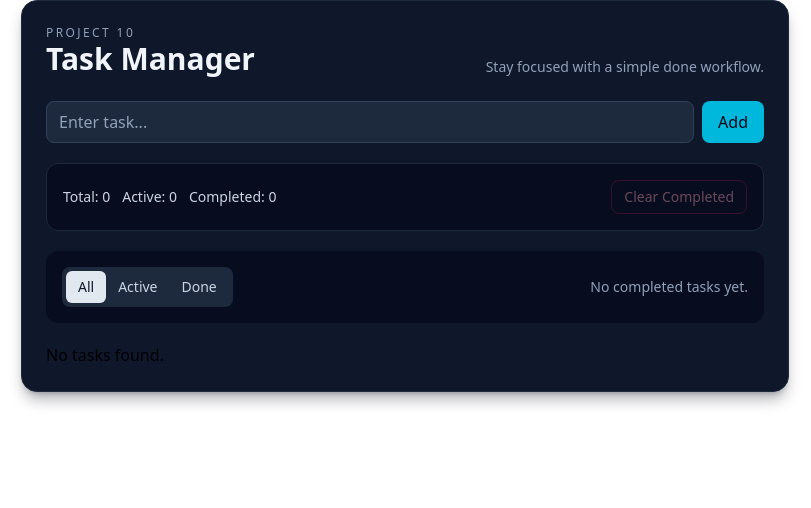
Test case: Project 10 spec requirements › R6: clear completed removes only done tasks
In the field with placeholder "Enter task...": point(370, 122) 46,101 -> 694,143, type "Complete me"
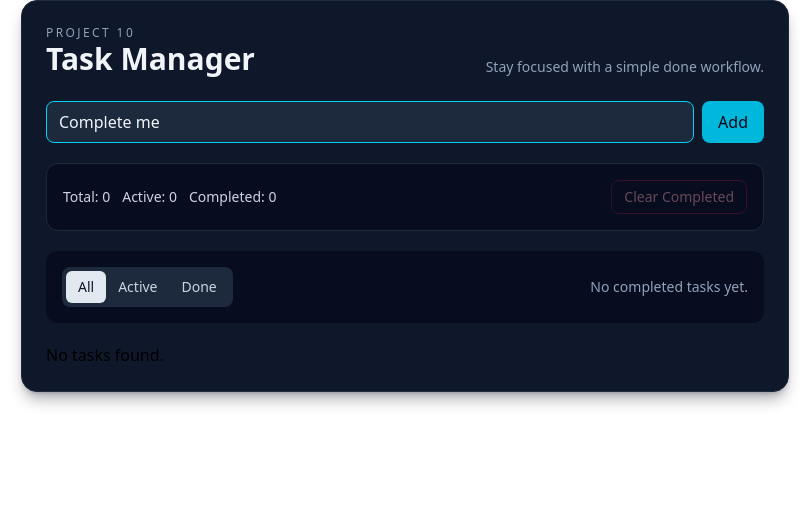
Click the button "Add": point(733, 122) 702,101 -> 764,143
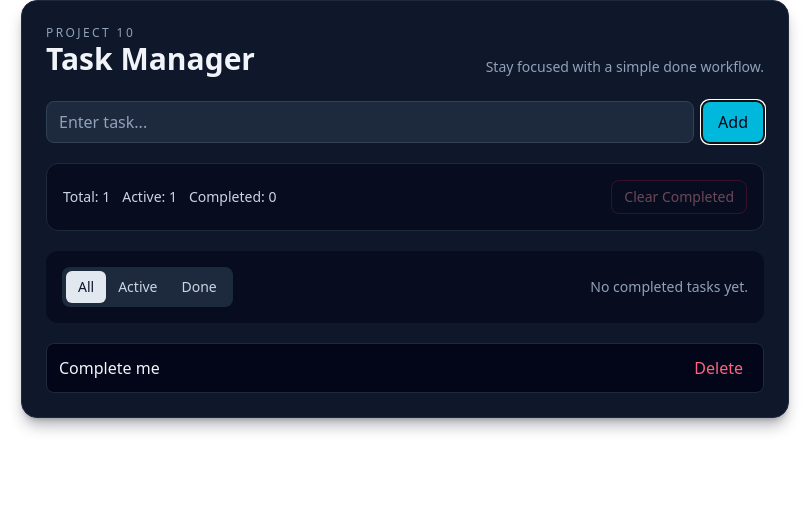
In the field with placeholder "Enter task...": point(370, 122) 46,101 -> 694,143, type "Keep me"
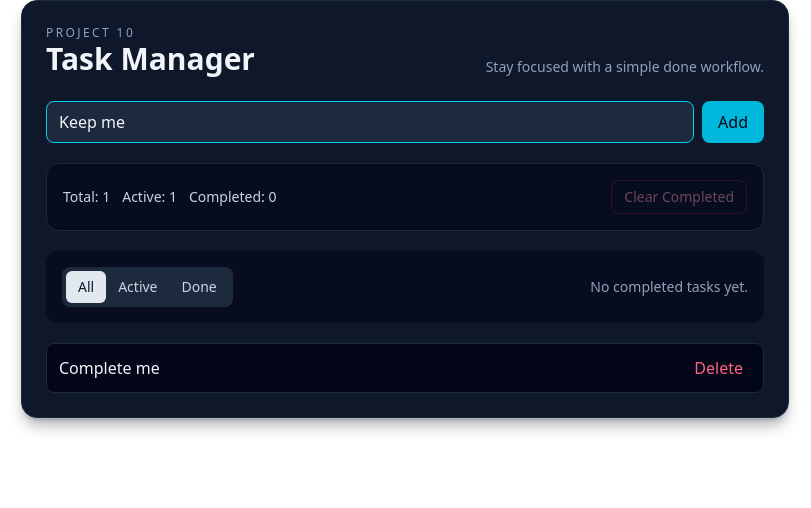
Click the button "Add": point(733, 122) 702,101 -> 764,143
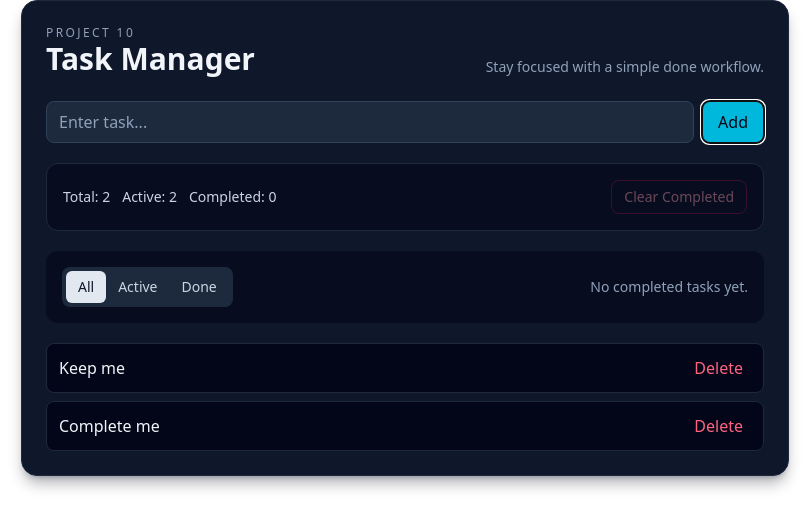
Click the text "Complete me": point(109, 426) 59,414 -> 160,438
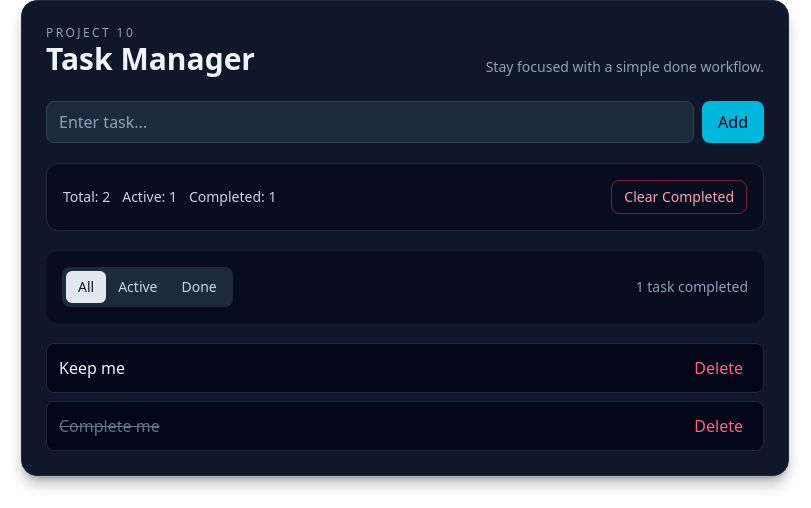
Click the button "Clear Completed": point(679, 197) 611,180 -> 747,214
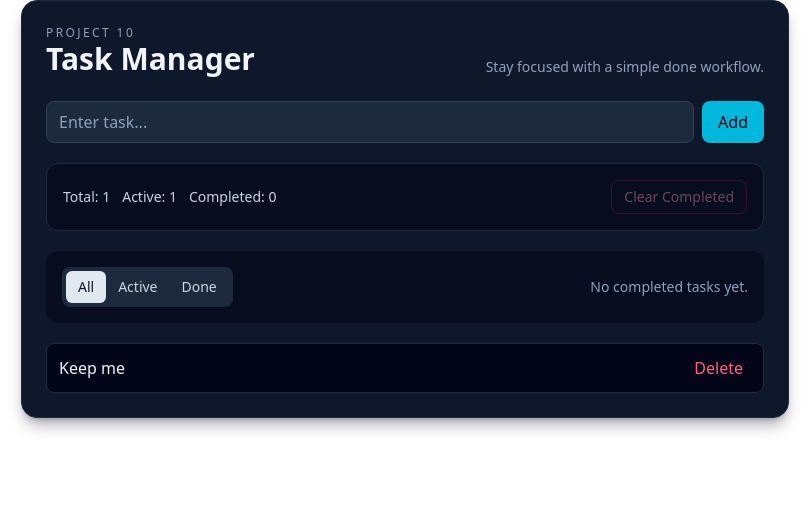
expect the text "Keep me" is shown: met, box 59,356 -> 125,380
expect the text "Complete me" is gone: met
expect the text "Completed: 0" is shown: met, box 189,187 -> 276,207
